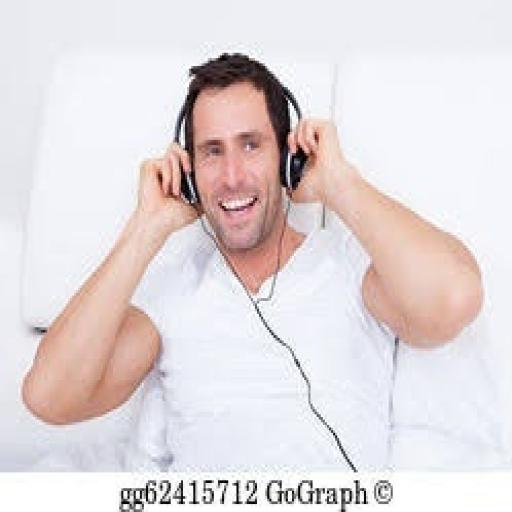listening_to_music: (18, 48, 494, 472)
